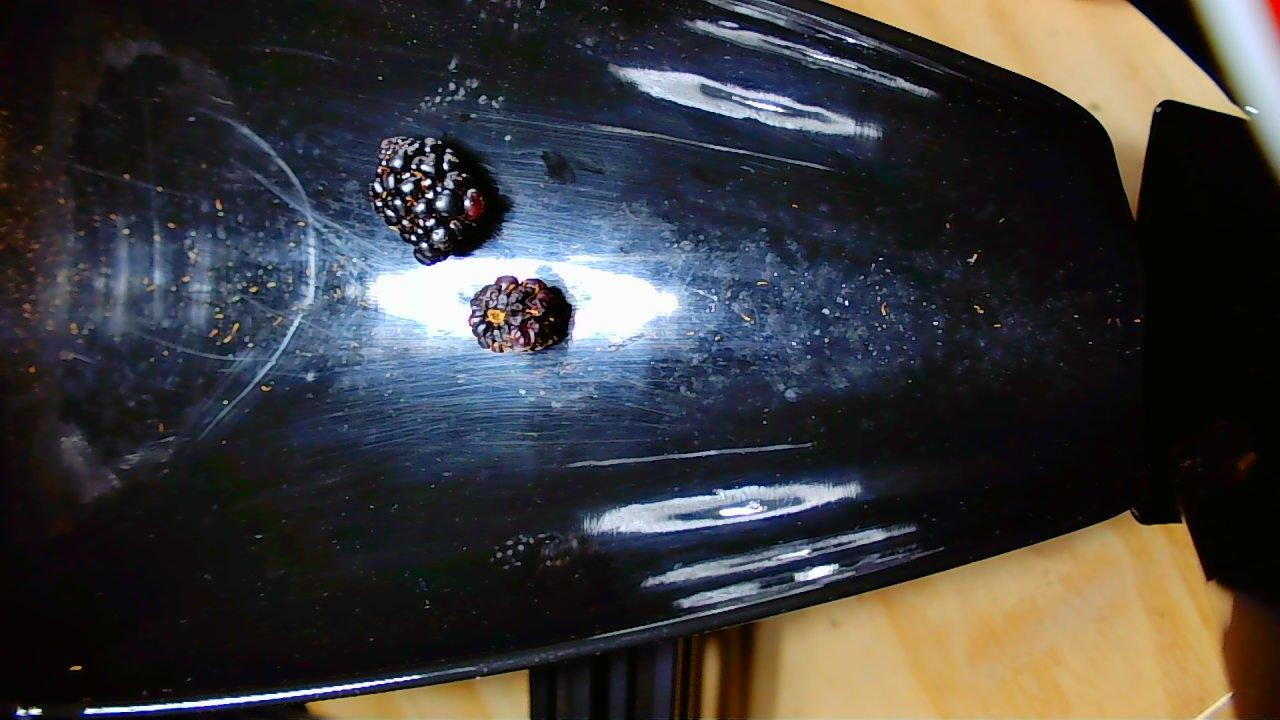berry: (370, 134, 504, 259), (470, 276, 569, 350)
